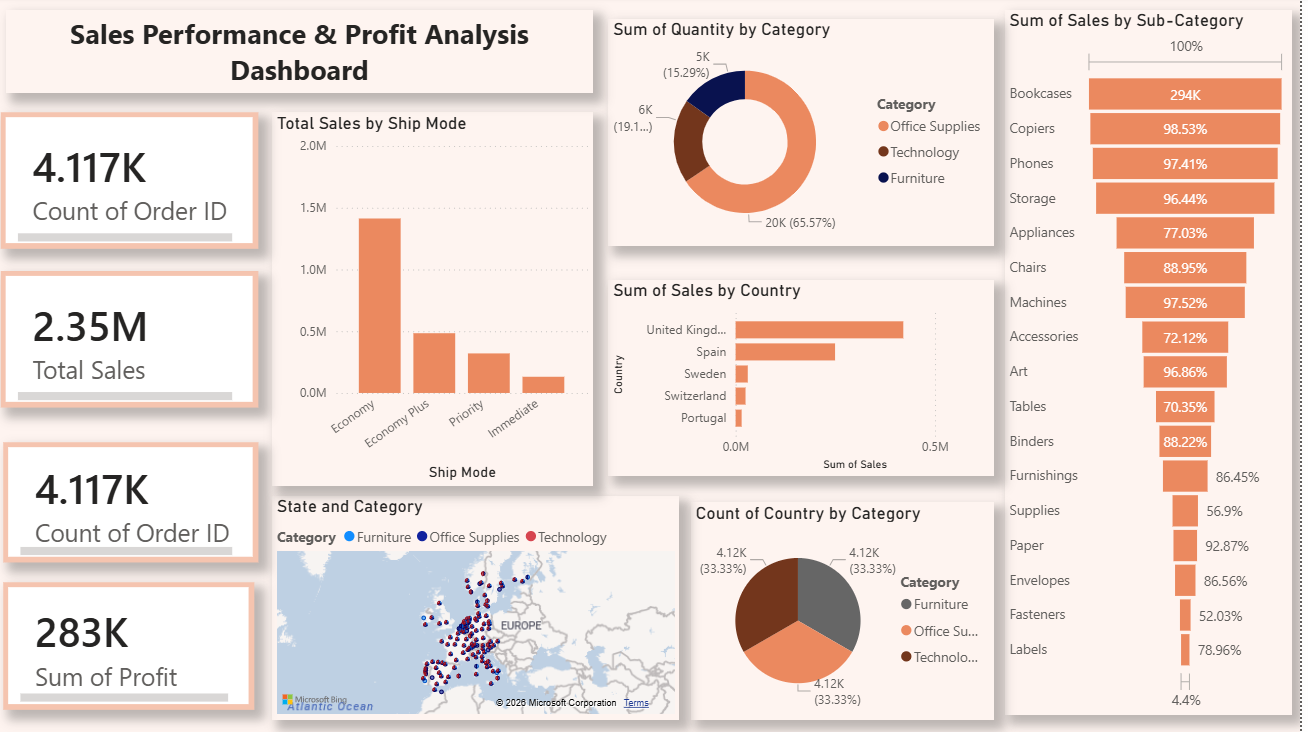

The dashboard page shown, as its layout file describes it:
{"tool":"powerbi","page":{"name":"Page 1","canvas":[1280,720],"ordinal":0},"visuals":[{"type":"cardVisual","fields":{"Data":["Sum(OrderBreakdown.Sales)"]},"box":[8.6,269,251.9,133.3],"z":0},{"type":"cardVisual","fields":{"Data":["Count(OrderBreakdown.Order ID)"]},"box":[11,436.6,249.5,117.4],"z":1000},{"type":"cardVisual","fields":{"Data":["Sum(OrderBreakdown.Profit)"]},"box":[11,573.5,245.8,124.7],"z":2000},{"type":"columnChart","title":"Total Sales by Ship Mode","fields":{"Y":["Sum(OrderBreakdown.Sales)"],"Category":["ListOfOrders.Ship Mode"]},"box":[273.9,113.7,314.3,365.6],"z":3000},{"type":"donutChart","fields":{"Y":["Sum(OrderBreakdown.Quantity)"],"Category":["OrderBreakdown.Category"]},"box":[602.9,22,377.9,222.6],"z":4000},{"type":"map","fields":{"Category":["ListOfOrders.State"],"Series":["OrderBreakdown.Category"]},"box":[273.9,489.1,398.6,218.9],"z":5000},{"type":"funnel","fields":{"Y":["Sum(OrderBreakdown.Sales)"],"Category":["OrderBreakdown.Sub-Category"]},"box":[990.5,13.5,281.3,689.7],"z":6000},{"type":"barChart","fields":{"Y":["Sum(OrderBreakdown.Sales)"],"Category":["ListOfOrders.Country"]},"box":[602.9,277.6,377.9,192],"z":7000},{"type":"pieChart","fields":{"Y":["CountNonNull(ListOfOrders.Country)"],"Category":["OrderBreakdown.Category"]},"box":[683.6,495.2,297.1,212.8],"z":8000},{"type":"textbox","box":[13.5,13.5,574.7,81.9],"z":9000},{"type":"cardVisual","fields":{"Data":["Count(ListOfOrders.Order ID)"]},"box":[8.6,113.7,251.9,133.3],"z":10000}]}

Visuals, with their boxes in screenshot pixels (x1, y1, x2, y2), scaled from the page's 1280x720 canvas onto the 1308x732 screenshot:
cardVisual - Sum(OrderBreakdown.Sales): (9,273,266,409)
cardVisual - Count(OrderBreakdown.Order ID): (11,444,266,563)
cardVisual - Sum(OrderBreakdown.Profit): (11,583,262,710)
"Total Sales by Ship Mode" columnChart: (280,116,601,487)
donutChart - Sum(OrderBreakdown.Quantity) x OrderBreakdown.Category: (616,22,1002,249)
map - ListOfOrders.State x OrderBreakdown.Category: (280,497,687,720)
funnel - Sum(OrderBreakdown.Sales) x OrderBreakdown.Sub-Category: (1012,14,1300,715)
barChart - Sum(OrderBreakdown.Sales) x ListOfOrders.Country: (616,282,1002,477)
pieChart - CountNonNull(ListOfOrders.Country) x OrderBreakdown.Category: (699,503,1002,720)
textbox: (14,14,601,97)
cardVisual - Count(ListOfOrders.Order ID): (9,116,266,251)
